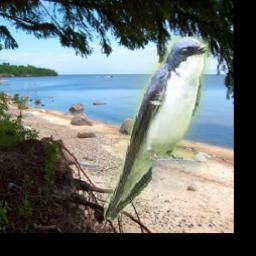Swallow: (104, 37, 211, 219)
